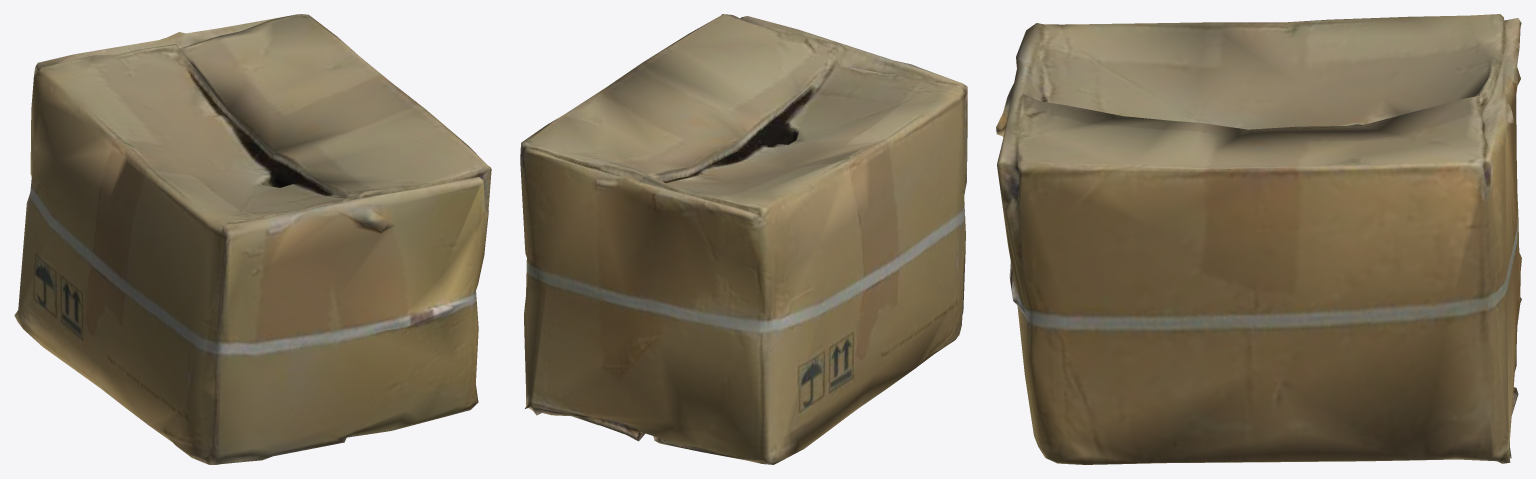
The model's file is cardboard_box_01.glb.
The picture shows the model from 3 angles, left to right: view 1: azimuth 30°, elevation 25°; view 2: azimuth 150°, elevation 25°; view 3: azimuth 270°, elevation 25°; orthographic projection. The views are drawn at different scales.
Parts seen in each view (by area): view 1: cardboard_box_01; view 2: cardboard_box_01; view 3: cardboard_box_01.
Boxes of the visible parts, <box> form: cardboard_box_01: <box>14,14,491,464</box>; cardboard_box_01: <box>520,14,967,464</box>; cardboard_box_01: <box>996,14,1521,464</box>.
Size of the model in its own units: 0.3867 by 0.3407 by 0.5159.
1 material, 1 textured.
